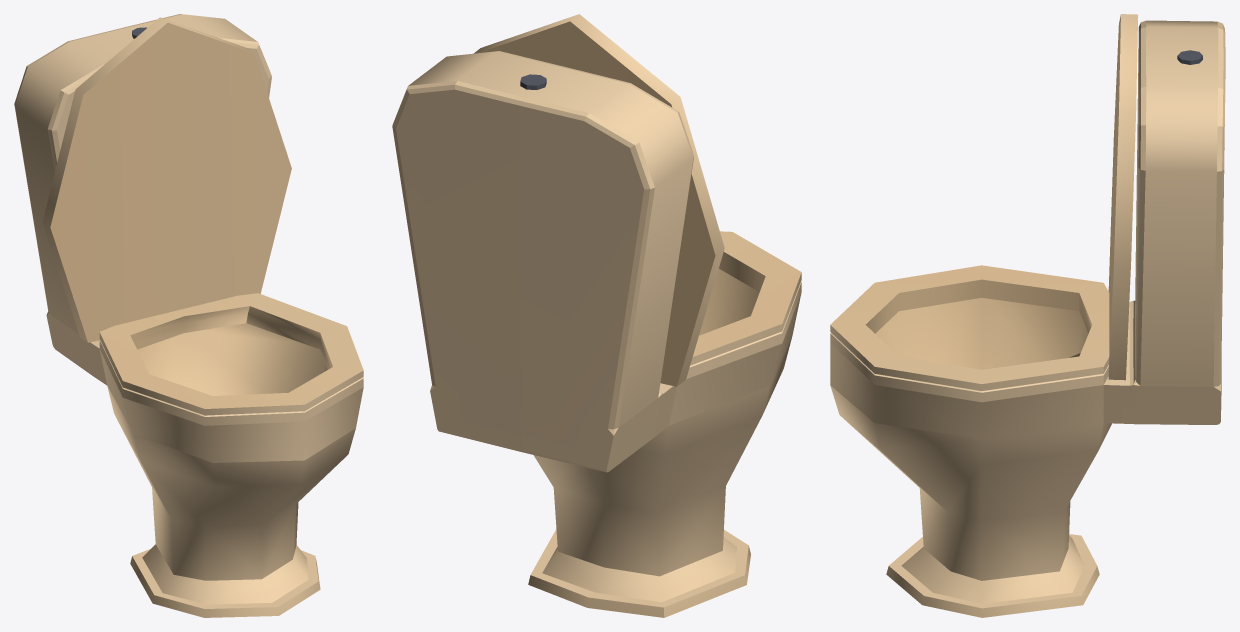
File: Toilet.fbx
3 views of the same model, side by side, from view 1: azimuth 30°, elevation 25°; view 2: azimuth 150°, elevation 25°; view 3: azimuth 270°, elevation 25° (orthographic). The views are drawn at different scales.
Parts seen in each view (by area): view 1: Toilet; view 2: Toilet; view 3: Toilet.
Part boxes in pixels (x1,y1,x2,y2): Toilet: [14, 14, 363, 617]; Toilet: [392, 14, 801, 617]; Toilet: [830, 14, 1225, 617].
Size of the model in its own units: 62.23 by 127 by 81.28.
